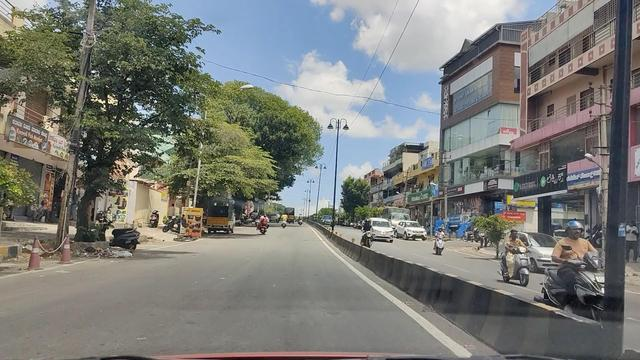HMV: (210, 183, 234, 245)
